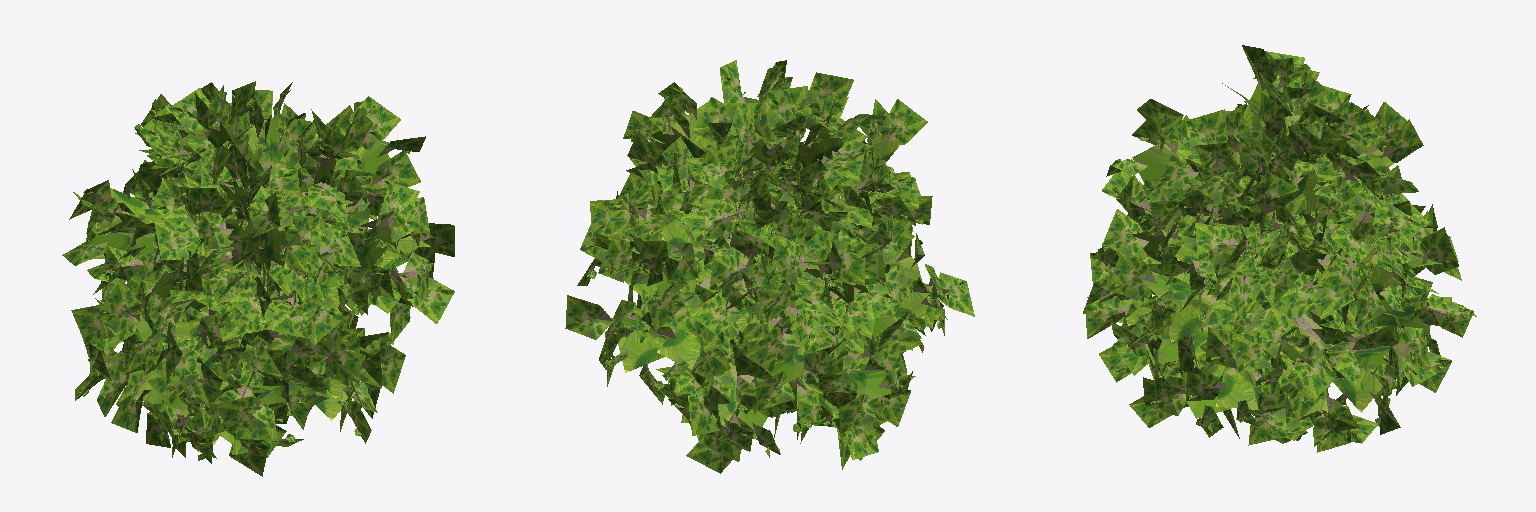
3 renders of one model, left to right at view 1: azimuth 30°, elevation 25°; view 2: azimuth 150°, elevation 25°; view 3: azimuth 270°, elevation 25°, orthographic.
Visible parts, largest first — view 1: Bush_Hero; view 2: Bush_Hero; view 3: Bush_Hero.
Boxes of the visible parts, x1=… form: Bush_Hero: x1=62, y1=81, x2=454, y2=476; Bush_Hero: x1=565, y1=60, x2=974, y2=473; Bush_Hero: x1=1083, y1=45, x2=1476, y2=452.
Bounding box in the file's own units: 7.37 × 7.41 × 7.08.
1 materials, 1 textured.